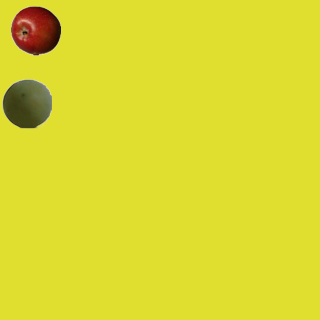Apple Braeburn: (10, 5, 60, 55)
Grape White 4: (1, 78, 51, 128)
